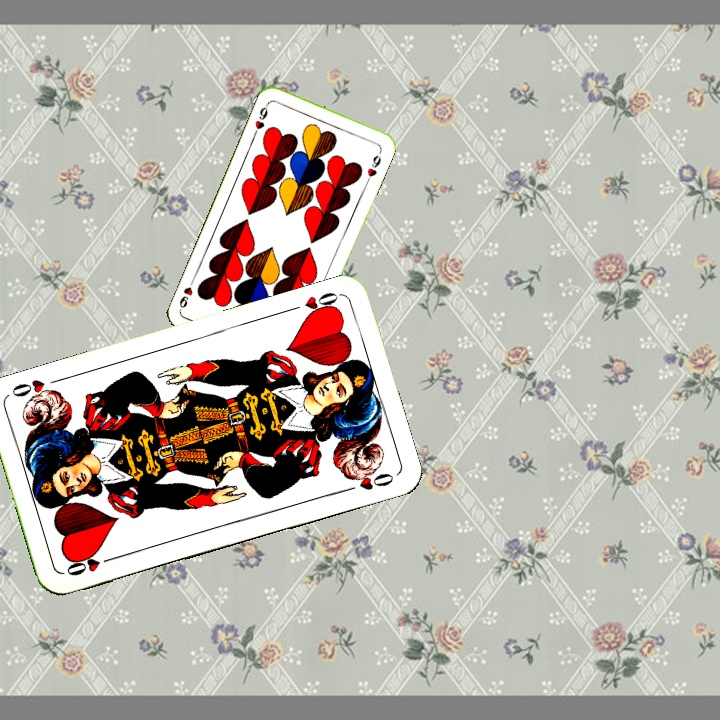H9: (250, 99, 272, 137)
HO: (284, 288, 342, 321), (62, 550, 118, 579)
